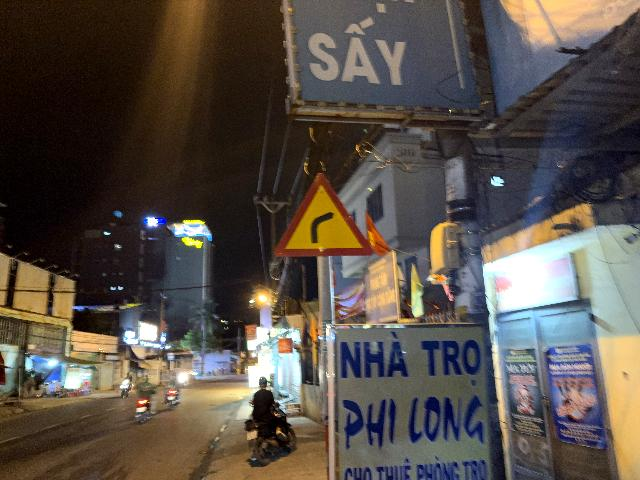cho-ngoat-nguy-hiem-ben-phai: (274, 171, 374, 256)
